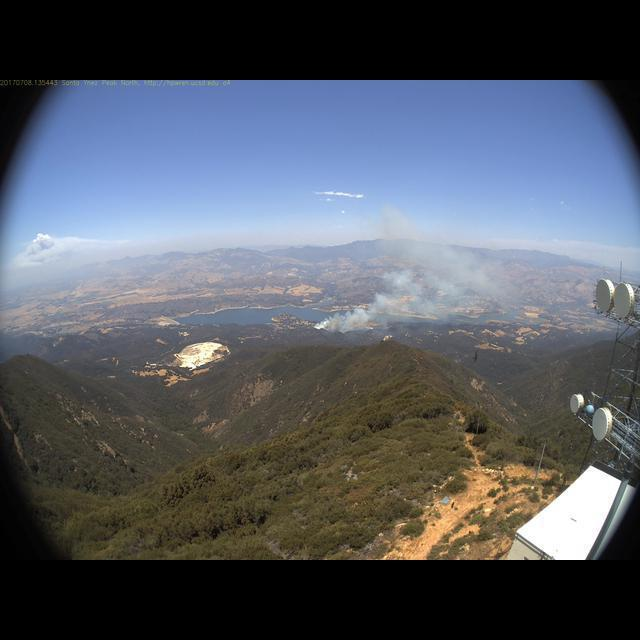Smoke: (311, 199, 534, 335)
